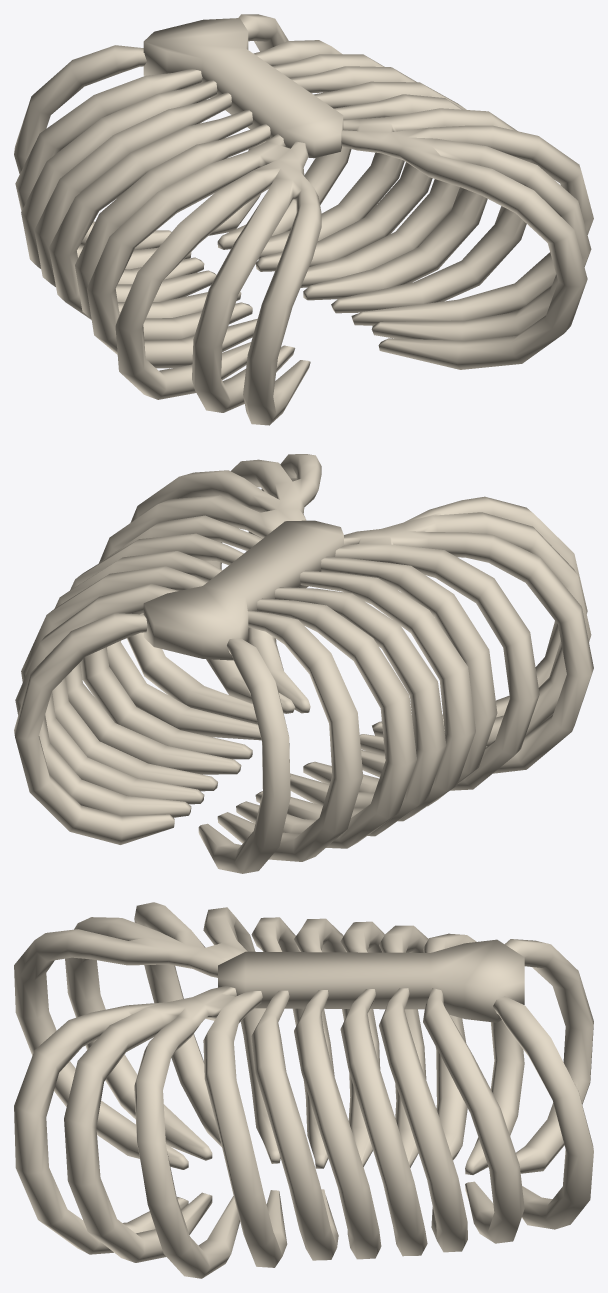
Rendered from Ribs.glb.
3 renders of one model, top to bottom at view 1: azimuth 30°, elevation 25°; view 2: azimuth 150°, elevation 25°; view 3: azimuth 270°, elevation 25°, orthographic. The views are drawn at different scales.
Visible parts, largest first — view 1: Ribs; view 2: Ribs; view 3: Ribs.
Part boxes in pixels (x1,y1,x2,y2): Ribs: [14, 14, 593, 425]; Ribs: [14, 454, 593, 873]; Ribs: [14, 902, 593, 1278].
Bounding box in the file's own units: 0.5085 × 0.2352 × 0.5224.
